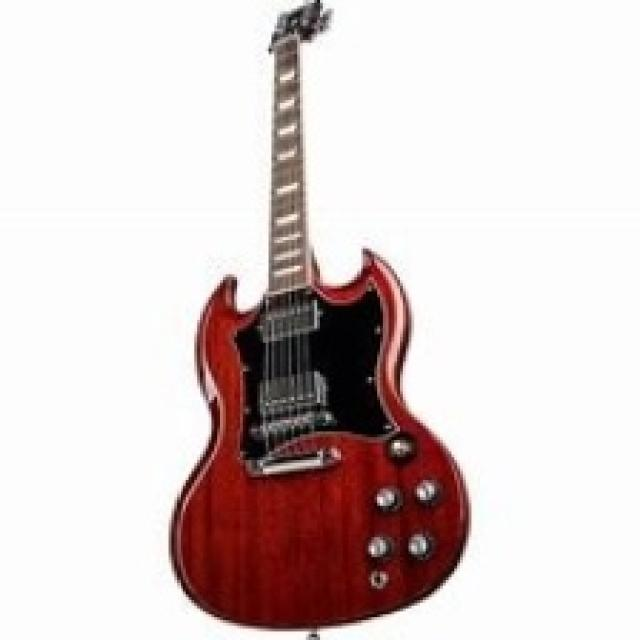guitar: (165, 2, 472, 624)
